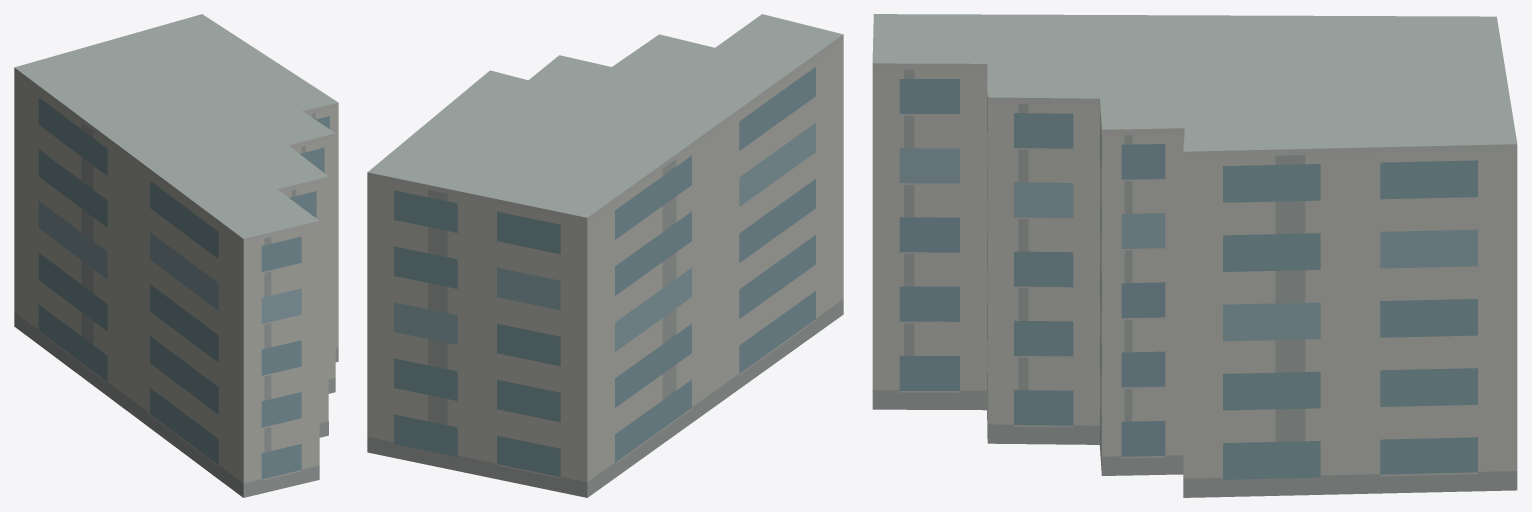
The model's file is survey-upis-33020747.glb.
3 renders of one model, left to right at view 1: azimuth 30°, elevation 25°; view 2: azimuth 150°, elevation 25°; view 3: azimuth 270°, elevation 25°, orthographic. The views are drawn at different scales.
Visible parts, largest first — view 1: survey-upis-33020747.tmp; view 2: survey-upis-33020747.tmp; view 3: survey-upis-33020747.tmp.
Boxes of the visible parts, x1,y1,x2,y2 form: survey-upis-33020747.tmp: [14, 14, 338, 497]; survey-upis-33020747.tmp: [367, 14, 843, 497]; survey-upis-33020747.tmp: [872, 14, 1517, 497].
Bounding box in the file's own units: 11.78 × 13.8 × 23.31.
